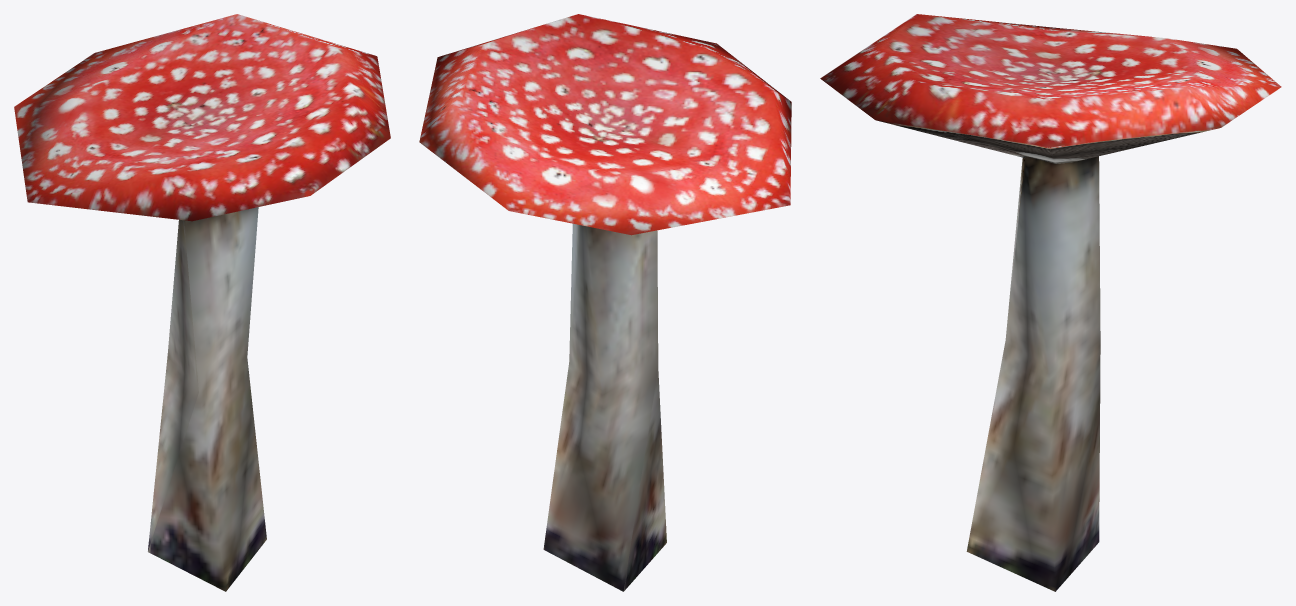
File: Mushroom_04_c.fbx
3 renders of one model, left to right at view 1: azimuth 30°, elevation 25°; view 2: azimuth 150°, elevation 25°; view 3: azimuth 270°, elevation 25°, orthographic. The views are drawn at different scales.
Visible parts, largest first — view 1: mushroom_04_c; view 2: mushroom_04_c; view 3: mushroom_04_c.
Part boxes in pixels (<box>): mushroom_04_c: <box>14,14,390,591</box>; mushroom_04_c: <box>419,14,791,591</box>; mushroom_04_c: <box>820,14,1281,591</box>.
Size of the model in its own units: 0.3541 by 0.468 by 0.3701.
